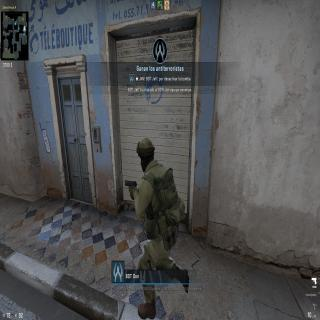CT-Head: (136, 130, 156, 173)
